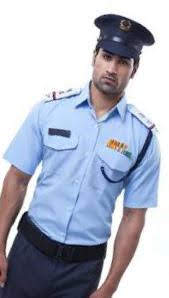uniform: (13, 8, 161, 263)
